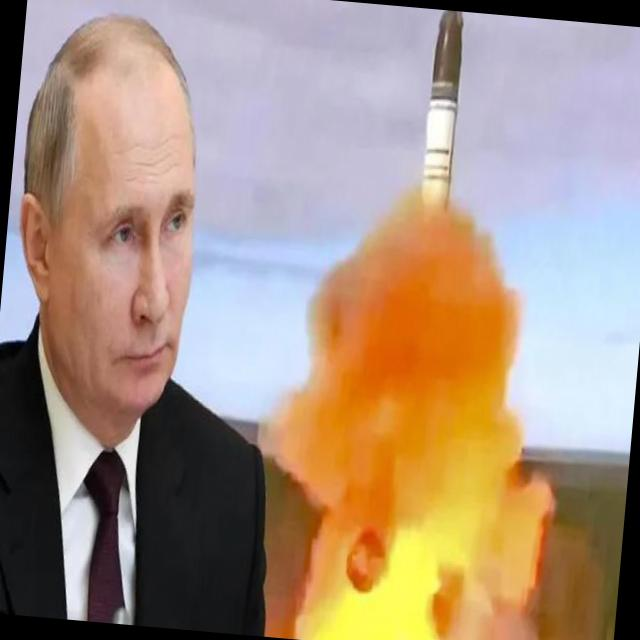rocket: (396, 11, 475, 365)
